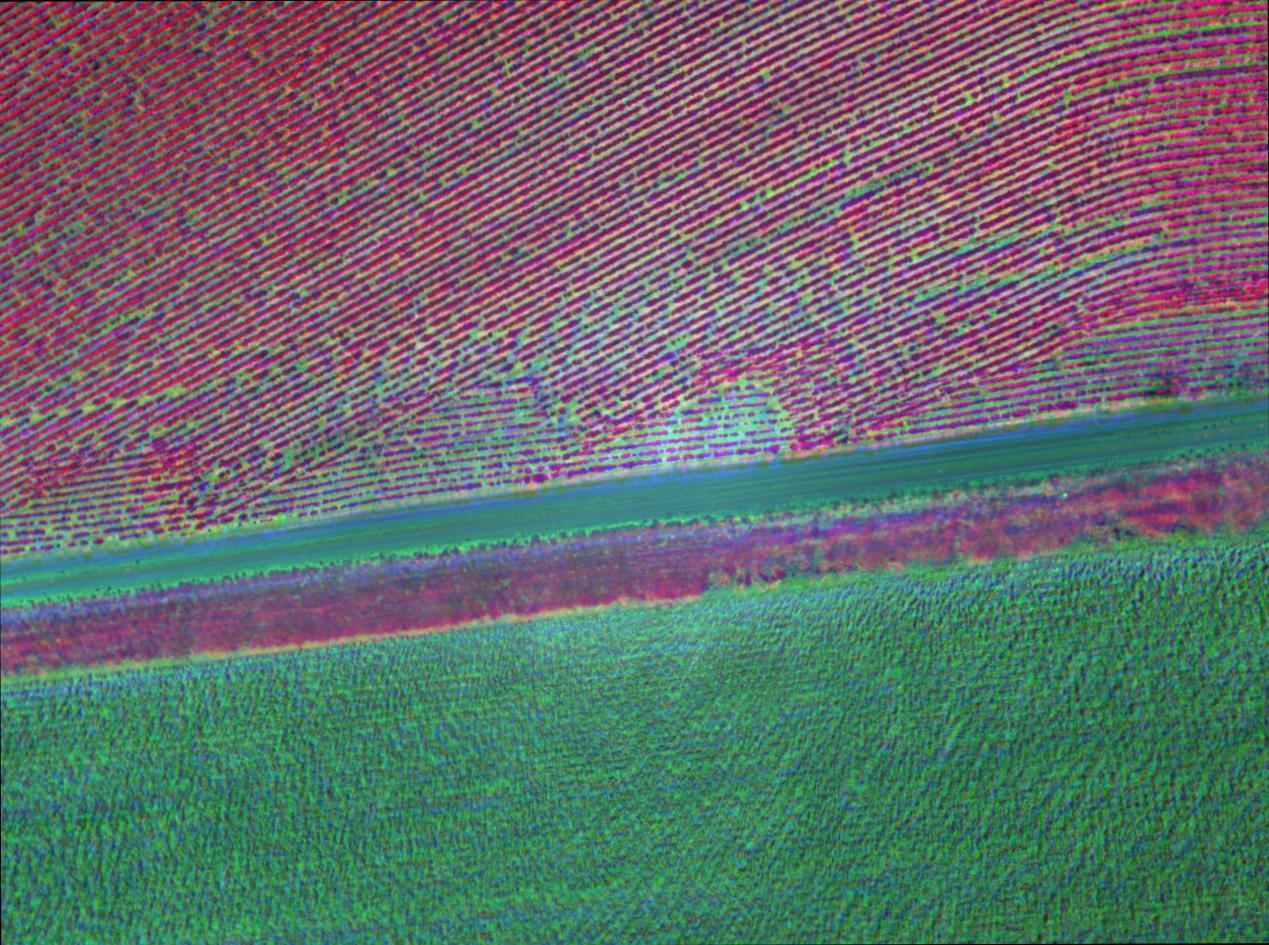dc: (744, 203, 749, 209), (472, 331, 477, 336), (169, 390, 174, 394), (358, 440, 362, 445), (516, 411, 520, 415), (36, 417, 40, 421), (211, 475, 215, 479), (147, 507, 151, 511), (677, 343, 680, 347), (461, 168, 464, 171)
